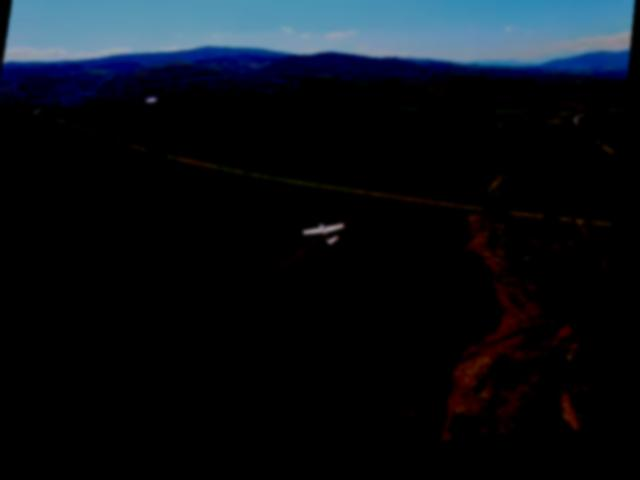uav: (303, 215, 356, 261)
